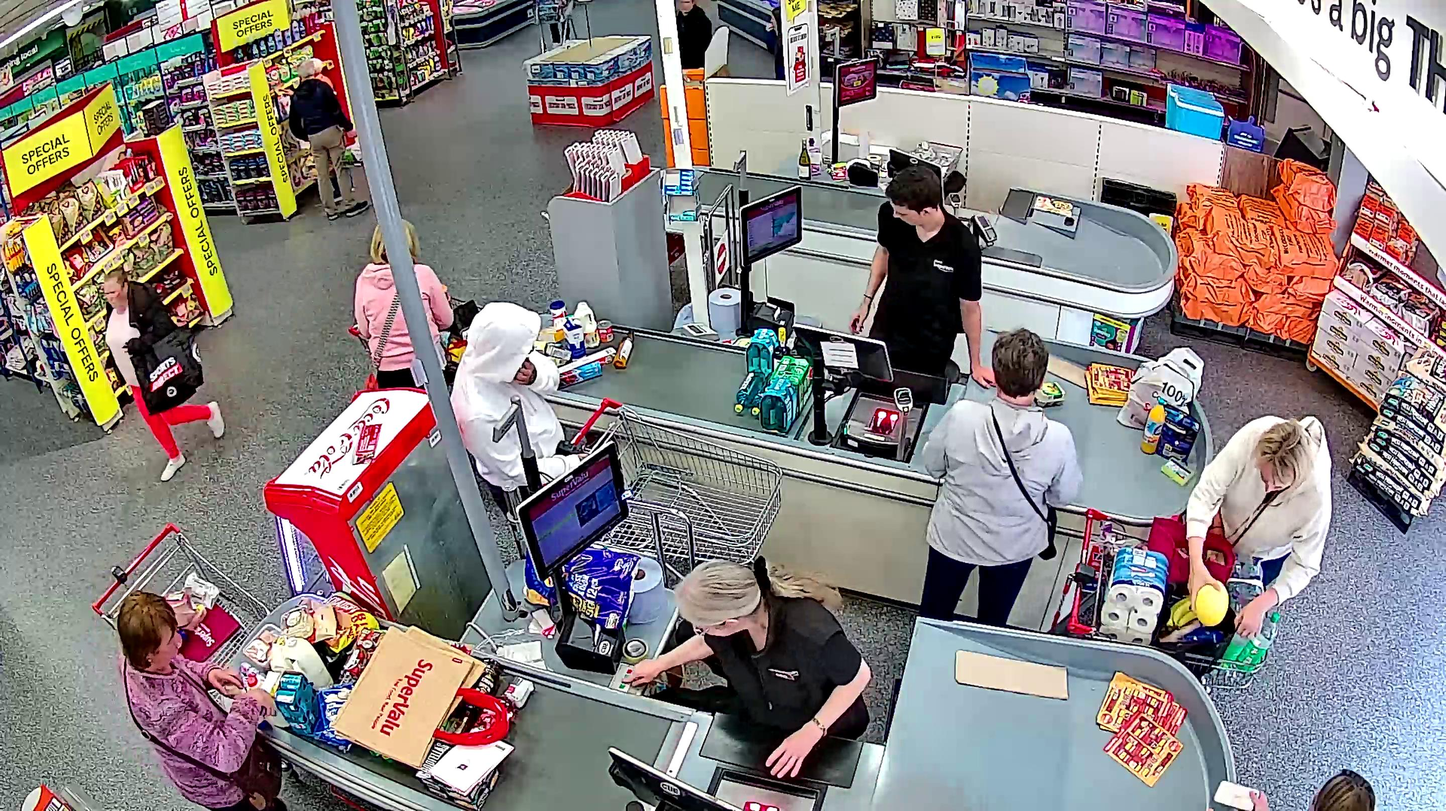filled-shopping-bags: (131, 326, 205, 418)
occupied-checkout-counter: (517, 439, 931, 811), (735, 183, 1008, 473)
person: (101, 265, 226, 481)
person-with-filled-shopping-bag-s-: (102, 265, 225, 482)
vacant-checkout-counter: (828, 54, 1031, 257)
